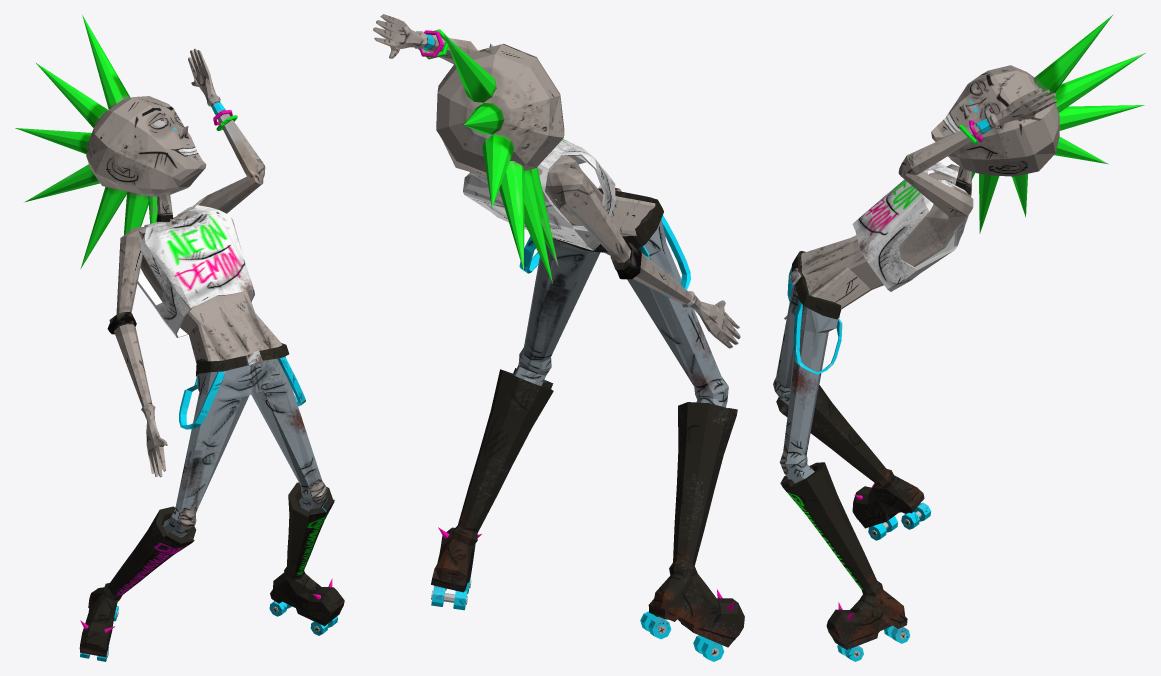
File: punkAnimation_000099.obj
3 views of the same model, side by side, from view 1: azimuth 30°, elevation 25°; view 2: azimuth 150°, elevation 25°; view 3: azimuth 270°, elevation 25° (orthographic). The views are drawn at different scales.
Visible parts, largest first — view 1: Cube.004_Cube.003; view 2: Cube.004_Cube.003; view 3: Cube.004_Cube.003.
Boxes of the visible parts, left/top/right/bottom form: Cube.004_Cube.003: left=15, top=15, right=344, bottom=661; Cube.004_Cube.003: left=373, top=14, right=744, bottom=661; Cube.004_Cube.003: left=773, top=14, right=1146, bottom=661.
Size of the model in its own units: 2.91 by 6.16 by 3.57.
